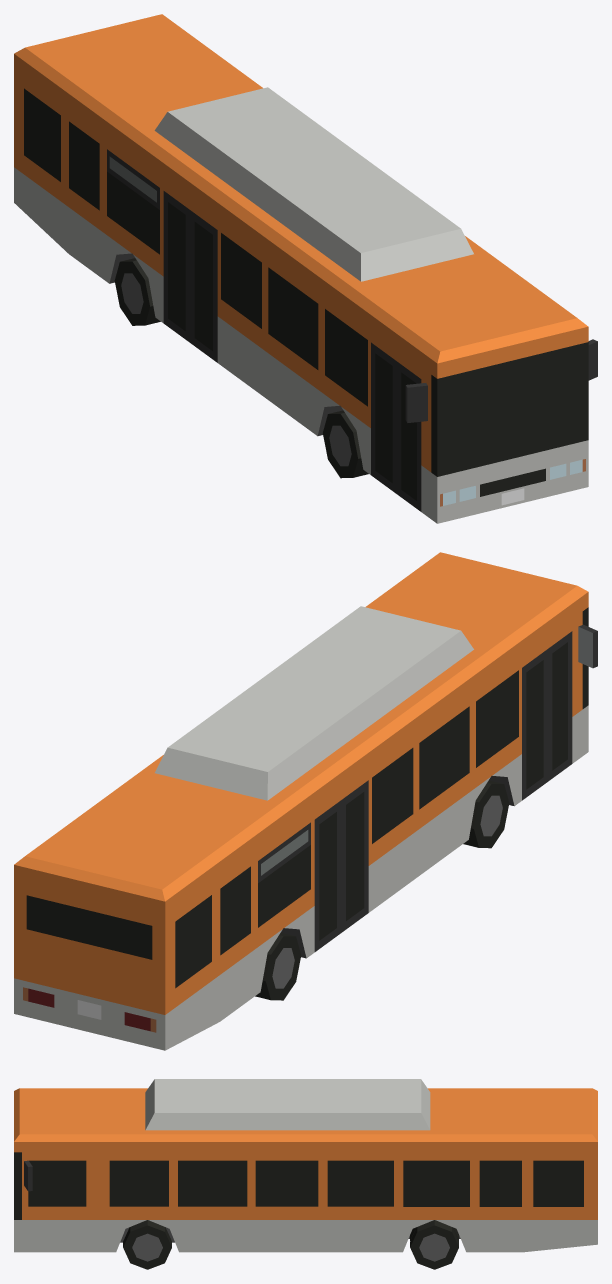
Rendered from Veh_Bus_01_Orange.fbx.
The picture shows the model from 3 angles, top to bottom: view 1: azimuth 30°, elevation 25°; view 2: azimuth 150°, elevation 25°; view 3: azimuth 270°, elevation 25°; orthographic projection. The views are drawn at different scales.
Visible parts, largest first — view 1: Bus_01, Wheel_RR, Wheel_FR; view 2: Bus_01, Wheel_RR, Wheel_FR; view 3: Bus_01, Wheel_RL, Wheel_FL.
Part boxes in pixels (box(x1,y1,x2,y2)): Bus_01: box(14, 14, 597, 523); Wheel_RR: box(114, 258, 160, 325); Wheel_FR: box(323, 410, 368, 478); Bus_01: box(14, 552, 597, 1050); Wheel_RR: box(255, 933, 301, 1000); Wheel_FR: box(463, 780, 509, 848); Bus_01: box(14, 1079, 597, 1252); Wheel_RL: box(410, 1220, 458, 1269); Wheel_FL: box(123, 1220, 171, 1269).
Size of the model in its own units: 170 by 183 by 653.
